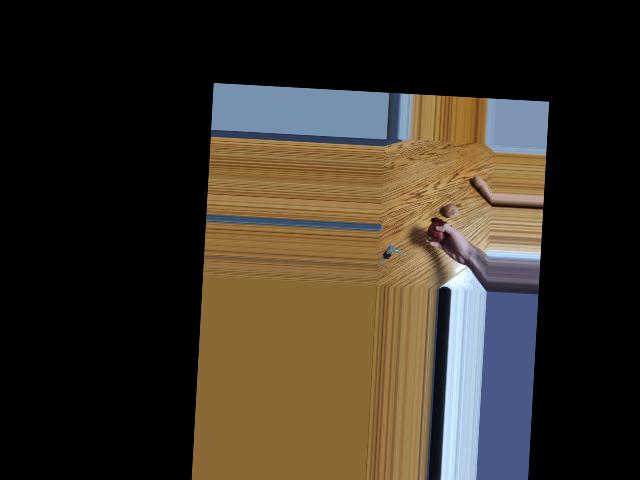onion: (442, 201, 461, 224)
